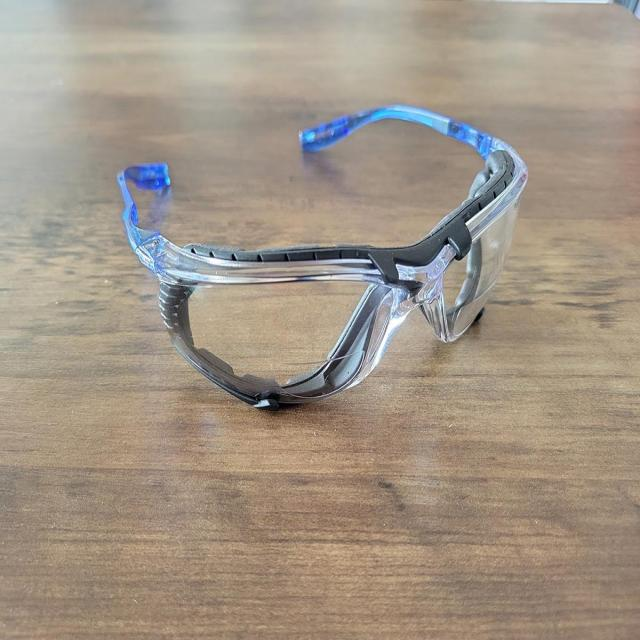Protective Glasses: (122, 131, 517, 404)
